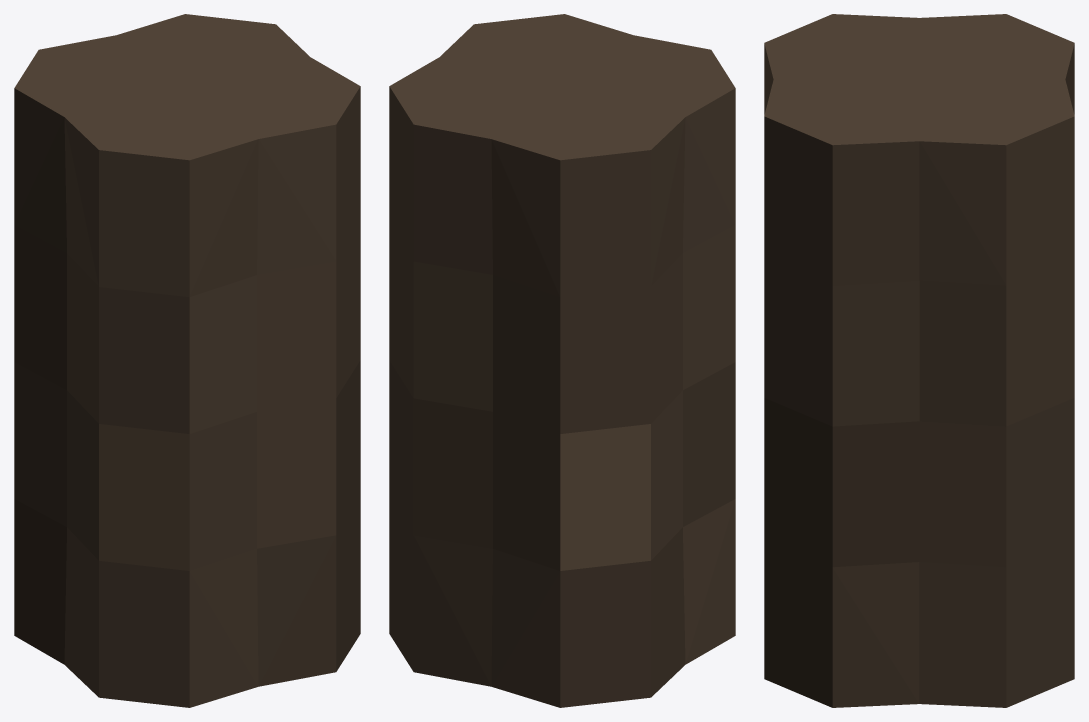
The model's file is Section_3.glb.
The picture shows the model from 3 angles, left to right: view 1: azimuth 30°, elevation 25°; view 2: azimuth 150°, elevation 25°; view 3: azimuth 270°, elevation 25°; orthographic projection. The views are drawn at different scales.
Visible parts, largest first — view 1: Section; view 2: Section; view 3: Section.
Part boxes in pixels (left/top/right/bottom): Section: left=14, top=14, right=360, bottom=707; Section: left=389, top=14, right=735, bottom=707; Section: left=764, top=14, right=1074, bottom=707.
Size of the model in its own units: 2.4 by 4.8 by 2.4.
